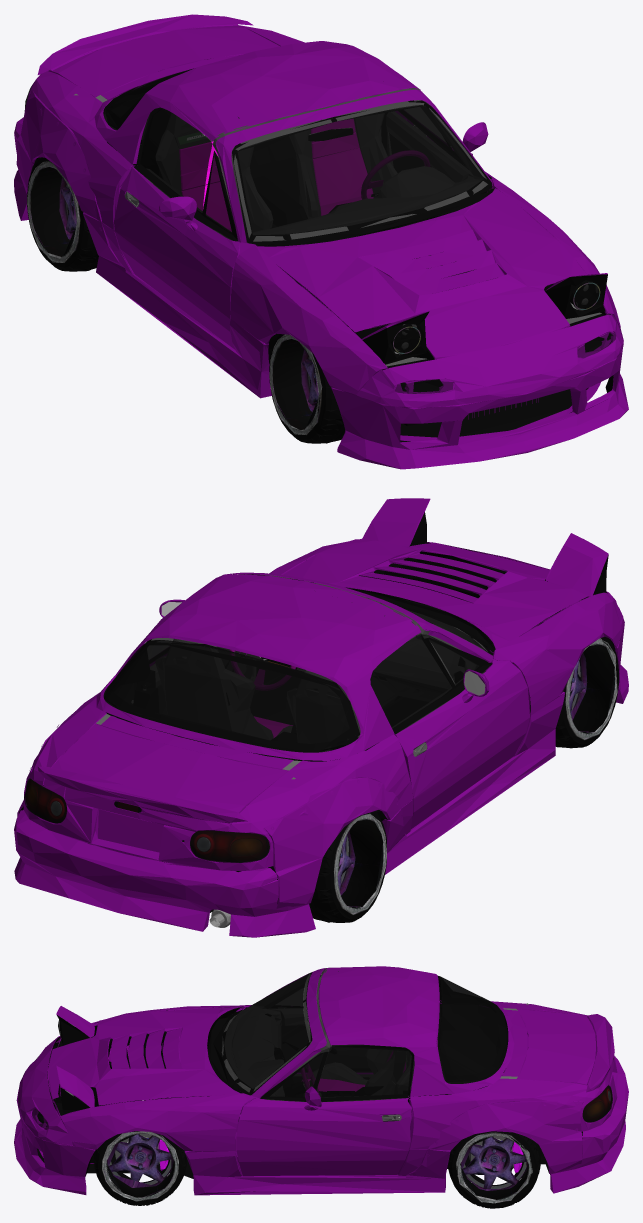
File: miata.glb
3 renders of one model, top to bottom at view 1: azimuth 30°, elevation 25°; view 2: azimuth 150°, elevation 25°; view 3: azimuth 270°, elevation 25°, orthographic. The views are drawn at different scales.
Visible parts, largest first — view 1: RLA_miata_signal_R_c_RRpbrPaintPrimary_0, RLA_miata_taillight_L_RLA_miata_glass_0, RLA_miata_shift_knob_a_RLA_miata_interior_leather_0, RLA_miata_steeringwheel_a_RRpbrMatteBlack_0, RLA_miata_wheel_RRpbrAluminumSemiPolish_0, RLA_miata_seat_passenger_a_RLA_miata_seats_0, RLA_miata_headlight_R_popup_RLA_miata_chassis_0, Object_4.003_Scene_-_Root.002_0, RLA_miata_dash_RLA_miata_carpet_0, RLA_miata_steeringwheel_a_RLA_Mat_Rubber_v1.0_0, RLA_miata_signal_L_RLA_miata_signal_L_0, RLA_miata_steeringwheel_a_RLA_miata_alcantara_0; view 2: RLA_miata_signal_R_c_RRpbrPaintPrimary_0, RLA_miata_taillight_L_RLA_miata_glass_0, RLA_miata_shift_knob_a_RLA_miata_interior_leather_0, RLA_miata_wheel_RRpbrAluminumSemiPolish_0, RLA_miata_steeringwheel_a_RRpbrMatteBlack_0, RLA_miata_taillight_L_RLA_miata_brakelight_0, Object_4.003_Scene_-_Root.002_0, RLA_miata_dash_RLA_miata_carpet_0, RLA_miata_dash_RRpbrGlossBlack_0, RLA_miata_steeringwheel_a_RLA_Mat_Rubber_v1.0_0, RLA_miata_dash_RLA_miata_dash_0; view 3: RLA_miata_signal_R_c_RRpbrPaintPrimary_0, RLA_miata_taillight_L_RLA_miata_glass_0, RLA_miata_shift_knob_a_RLA_miata_interior_leather_0, RLA_miata_wheel_RRpbrAluminumSemiPolish_0, RLA_miata_steeringwheel_a_RRpbrMatteBlack_0, RLA_miata_dash_RLA_miata_carpet_0, Object_4.003_Scene_-_Root.002_0, RLA_miata_headlight_R_popup_RLA_miata_interior_trim_0, RLA_miata_dash_RRpbrGlossBlack_0, RLA_miata_steeringwheel_a_RLA_Mat_Rubber_v1.0_0, RLA_miata_taillight_L_RLA_miata_brakelight_0, RLA_miata_seat_passenger_a_RLA_miata_seats_0.
Part boxes in pixels (box(x1,y1,x2,y2)): RLA_miata_signal_R_c_RRpbrPaintPrimary_0: box(14, 14, 628, 469); RLA_miata_taillight_L_RLA_miata_glass_0: box(24, 68, 601, 354); RLA_miata_shift_knob_a_RLA_miata_interior_leather_0: box(146, 88, 487, 242); RLA_miata_steeringwheel_a_RRpbrMatteBlack_0: box(28, 73, 613, 392); RLA_miata_wheel_RRpbrAluminumSemiPolish_0: box(27, 161, 322, 434); RLA_miata_seat_passenger_a_RLA_miata_seats_0: box(179, 119, 373, 231); RLA_miata_headlight_R_popup_RLA_miata_chassis_0: box(268, 276, 610, 437); Object_4.003_Scene_-_Root.002_0: box(27, 157, 345, 443); RLA_miata_dash_RLA_miata_carpet_0: box(103, 95, 387, 227); RLA_miata_steeringwheel_a_RLA_Mat_Rubber_v1.0_0: box(103, 92, 467, 338); RLA_miata_signal_L_RLA_miata_signal_L_0: box(395, 332, 615, 393); RLA_miata_steeringwheel_a_RLA_miata_alcantara_0: box(361, 150, 429, 199); RLA_miata_signal_R_c_RRpbrPaintPrimary_0: box(14, 498, 628, 937); RLA_miata_taillight_L_RLA_miata_glass_0: box(24, 604, 484, 862); RLA_miata_shift_knob_a_RLA_miata_interior_leather_0: box(150, 574, 487, 752); RLA_miata_wheel_RRpbrAluminumSemiPolish_0: box(333, 638, 617, 914); RLA_miata_steeringwheel_a_RRpbrMatteBlack_0: box(19, 512, 615, 903); RLA_miata_taillight_L_RLA_miata_brakelight_0: box(26, 779, 269, 861); Object_4.003_Scene_-_Root.002_0: box(45, 636, 619, 922); RLA_miata_dash_RLA_miata_carpet_0: box(105, 667, 428, 759); RLA_miata_dash_RRpbrGlossBlack_0: box(107, 642, 372, 912); RLA_miata_steeringwheel_a_RLA_Mat_Rubber_v1.0_0: box(103, 635, 614, 761); RLA_miata_dash_RLA_miata_dash_0: box(242, 615, 477, 707); RLA_miata_signal_R_c_RRpbrPaintPrimary_0: box(14, 966, 628, 1195); RLA_miata_taillight_L_RLA_miata_glass_0: box(58, 974, 613, 1122); RLA_miata_shift_knob_a_RLA_miata_interior_leather_0: box(221, 967, 414, 1102); RLA_miata_wheel_RRpbrAluminumSemiPolish_0: box(102, 1131, 532, 1203); RLA_miata_steeringwheel_a_RRpbrMatteBlack_0: box(37, 972, 612, 1172); RLA_miata_dash_RLA_miata_carpet_0: box(292, 1004, 508, 1083); Object_4.003_Scene_-_Root.002_0: box(94, 1025, 540, 1208); RLA_miata_headlight_R_popup_RLA_miata_interior_trim_0: box(281, 1025, 398, 1121); RLA_miata_dash_RRpbrGlossBlack_0: box(37, 977, 545, 1178); RLA_miata_steeringwheel_a_RLA_Mat_Rubber_v1.0_0: box(265, 975, 507, 1098); RLA_miata_taillight_L_RLA_miata_brakelight_0: box(583, 1086, 611, 1121); RLA_miata_seat_passenger_a_RLA_miata_seats_0: box(308, 1052, 405, 1091).
Size of what is drawn, in the model's own units: 1.81 by 1.15 by 3.93.
Materials: 38 (7 with a texture image).
